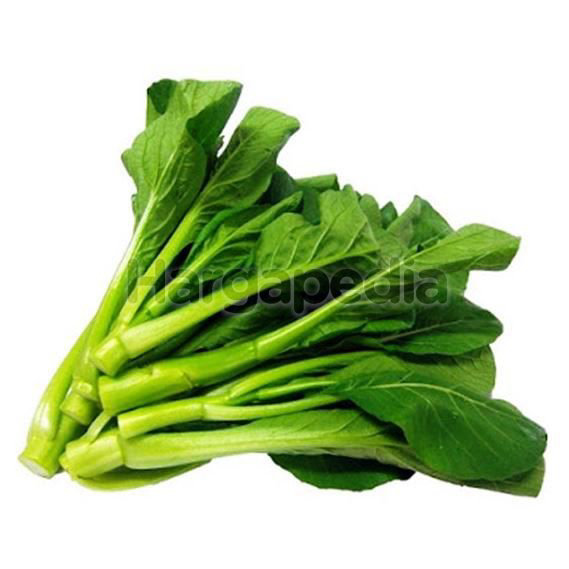Sawi: (12, 63, 559, 518)
